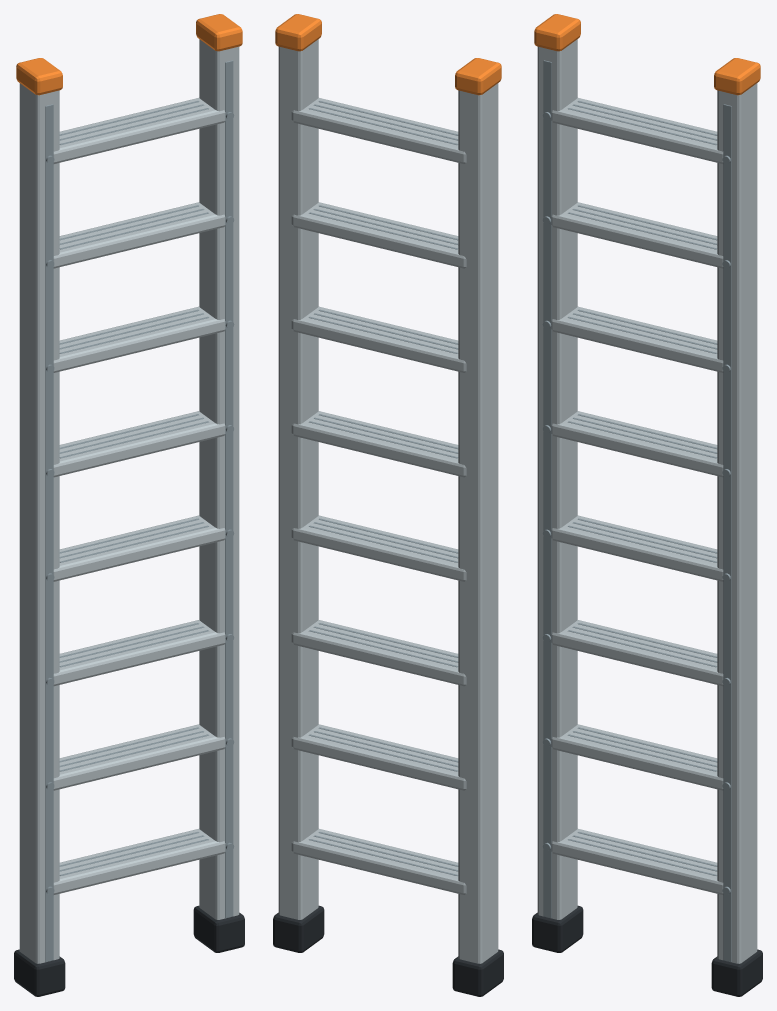
The model's file is ladder.glb.
3 renders of one model, left to right at view 1: azimuth 30°, elevation 25°; view 2: azimuth 150°, elevation 25°; view 3: azimuth 330°, elevation 25°, orthographic.
Parts seen in each view (by area): view 1: Ladder side rail, Ladder side rail.001, Rail recessed channel, Rail recessed channel.001, Flat non-slip rung 07, Flat non-slip rung 03, Flat non-slip rung 02, Flat non-slip rung 04, Flat non-slip rung 06, Flat non-slip rung 05, Flat non-slip rung 01, Flat non-slip rung 08 (+4 smaller); view 2: Ladder side rail, Ladder side rail.001, Flat non-slip rung 07, Flat non-slip rung 03, Flat non-slip rung 02, Flat non-slip rung 04, Flat non-slip rung 06, Flat non-slip rung 05, Flat non-slip rung 01, Flat non-slip rung 08, Rubber ladder foot, Rubber ladder foot.001 (+2 smaller); view 3: Ladder side rail.001, Ladder side rail, Rail recessed channel.001, Rail recessed channel, Flat non-slip rung 07, Flat non-slip rung 03, Flat non-slip rung 02, Flat non-slip rung 04, Flat non-slip rung 06, Flat non-slip rung 05, Flat non-slip rung 01, Flat non-slip rung 08 (+4 smaller).
Part boxes in pixels (x1,y1,x2,y2): Ladder side rail: (19,83,59,963); Ladder side rail.001: (199,39,239,919); Rail recessed channel: (45,104,53,962); Rail recessed channel.001: (225,60,233,918); Flat non-slip rung 07: (53,202,225,268); Flat non-slip rung 03: (53,620,225,686); Flat non-slip rung 02: (53,724,225,790); Flat non-slip rung 04: (53,515,225,581); Flat non-slip rung 06: (53,306,225,372); Flat non-slip rung 05: (53,411,225,477); Flat non-slip rung 01: (53,829,225,894); Flat non-slip rung 08: (53,98,225,163); Ladder side rail: (458,83,498,963); Ladder side rail.001: (278,39,318,919); Flat non-slip rung 07: (291,202,466,268); Flat non-slip rung 03: (291,620,466,686); Flat non-slip rung 02: (291,724,466,790); Flat non-slip rung 04: (291,515,466,581); Flat non-slip rung 06: (291,306,466,372); Flat non-slip rung 05: (291,411,466,477); Flat non-slip rung 01: (291,829,466,894); Flat non-slip rung 08: (291,98,466,163); Rubber ladder foot: (452,949,503,996); Rubber ladder foot.001: (273,905,324,952); Ladder side rail.001: (717,83,757,963); Ladder side rail: (537,39,577,919); Rail recessed channel.001: (723,104,731,962); Rail recessed channel: (543,60,551,918); Flat non-slip rung 07: (551,202,723,268); Flat non-slip rung 03: (551,620,723,686); Flat non-slip rung 02: (551,724,723,790); Flat non-slip rung 04: (551,515,723,581); Flat non-slip rung 06: (551,306,723,372); Flat non-slip rung 05: (551,411,723,477); Flat non-slip rung 01: (551,829,723,894); Flat non-slip rung 08: (551,98,723,163).
Bounding box in the file's own units: 0.573 × 2.4 × 0.112.
